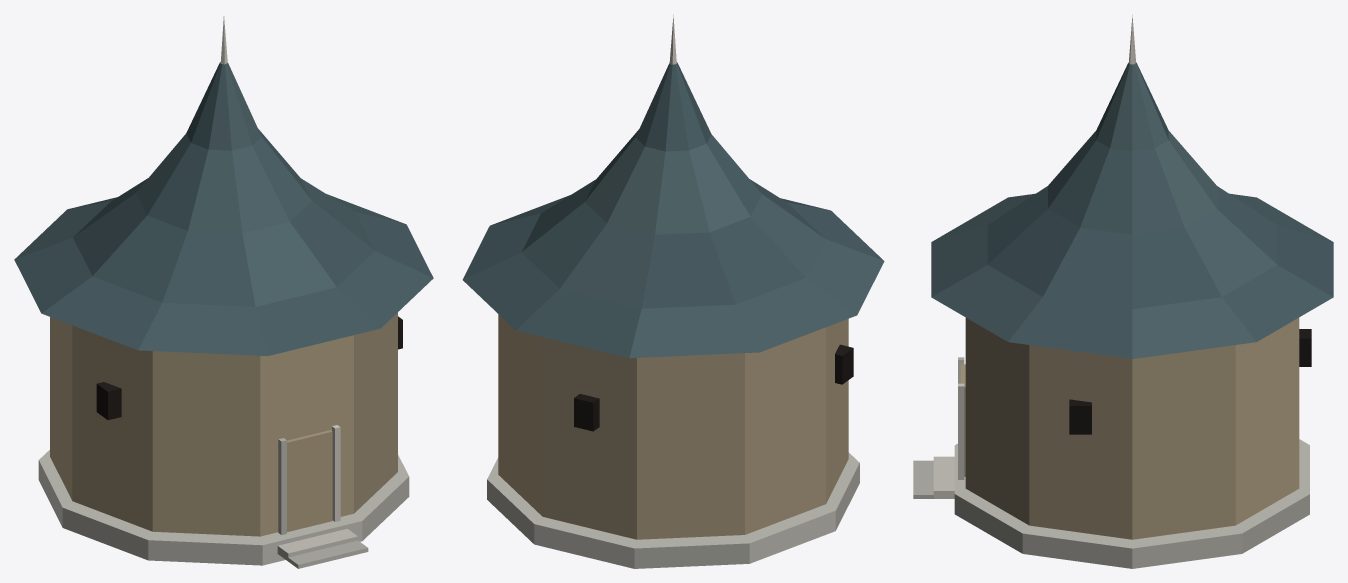
File: walk_veiled_tall.glb
The picture shows the model from 3 angles, left to right: view 1: azimuth 30°, elevation 25°; view 2: azimuth 150°, elevation 25°; view 3: azimuth 270°, elevation 25°; orthographic projection.
Parts seen in each view (by area): view 1: walk_veiled_tall, walk_veiled_tall_roof; view 2: walk_veiled_tall, walk_veiled_tall_roof; view 3: walk_veiled_tall, walk_veiled_tall_roof.
Part boxes in pixels (x1,y1,x2,y2): walk_veiled_tall: (38,312,409,568); walk_veiled_tall_roof: (14,16,433,356); walk_veiled_tall: (487,314,859,568); walk_veiled_tall_roof: (462,14,884,358); walk_veiled_tall: (913,317,1311,568); walk_veiled_tall_roof: (931,14,1333,358).
Size of what is drawn, in the model's own units: 9.4 by 11.67 by 9.34.
Materials: 1 (1 with a texture image).
